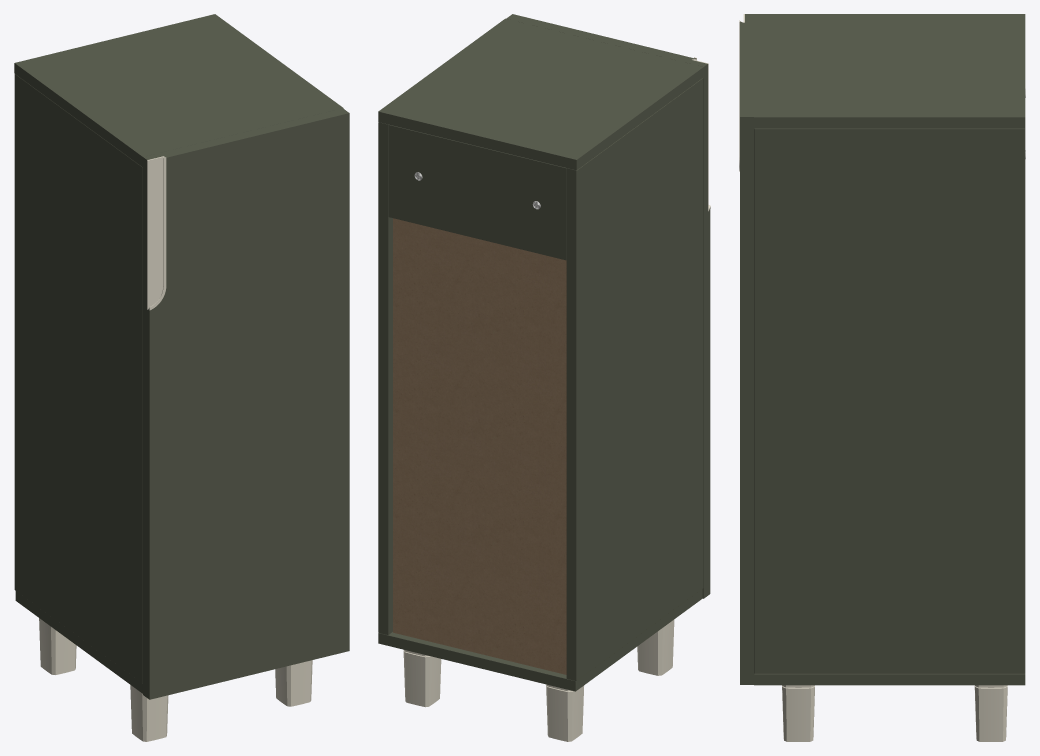
3 renders of one model, left to right at view 1: azimuth 30°, elevation 25°; view 2: azimuth 150°, elevation 25°; view 3: azimuth 270°, elevation 25°, orthographic. The views are drawn at different scales.
Parts seen in each view (by area): view 1: group_0.268, Cube.007, Cube.002, group_0.389, group_0.326, group_0.329, group_0.327, Cube.005; view 2: group_0.369, Cube.007, Cube.002, Cube.008, Cube.006, group_0.268, Cube.005, group_0.329, group_0.328, group_0.326; view 3: Cube.006, Cube.002, group_0.268, Cube.005, group_0.328, group_0.327.
Boxes of the visible parts, <box> form: group_0.268: <box>143,108,349,699</box>; Cube.007: <box>14,74,142,683</box>; Cube.002: <box>14,14,343,167</box>; group_0.389: <box>147,156,166,310</box>; group_0.326: <box>130,685,168,741</box>; group_0.329: <box>39,618,76,674</box>; group_0.327: <box>275,660,312,706</box>; Cube.005: <box>15,591,142,693</box>; group_0.369: <box>393,218,566,674</box>; Cube.007: <box>566,78,703,680</box>; Cube.002: <box>378,18,703,170</box>; Cube.008: <box>388,124,566,260</box>; Cube.006: <box>378,122,392,634</box>; group_0.268: <box>506,14,710,598</box>; Cube.005: <box>378,589,702,691</box>; group_0.329: <box>546,684,584,741</box>; group_0.328: <box>403,650,441,707</box>; group_0.326: <box>637,619,674,675</box>; Cube.006: <box>754,128,1025,673</box>; Cube.002: <box>754,14,1025,128</box>; group_0.268: <box>740,14,753,684</box>; Cube.005: <box>754,673,1025,685</box>; group_0.328: <box>974,685,1007,741</box>; group_0.327: <box>782,685,814,741</box>.
Size of the model in its own units: 0.3518 by 1 by 0.4113.
Materials: 11 (1 with a texture image).
